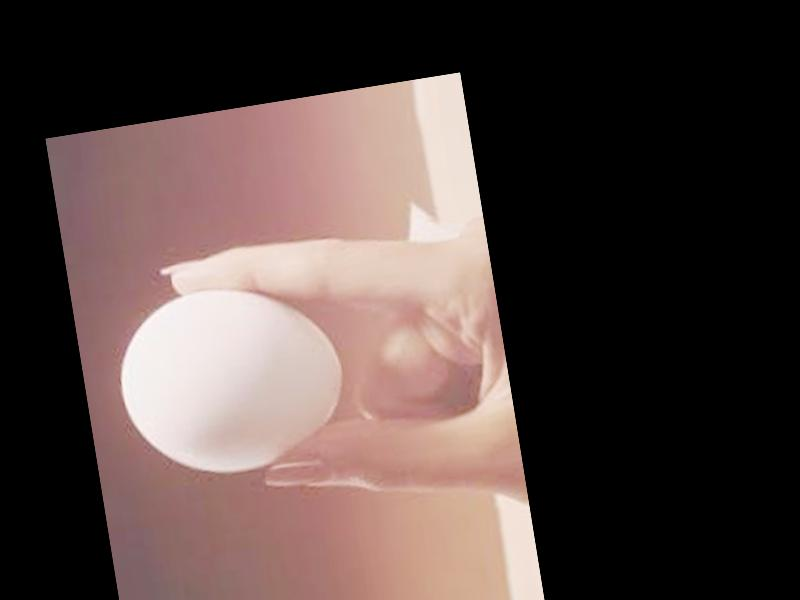Eggs: (107, 269, 355, 488)
